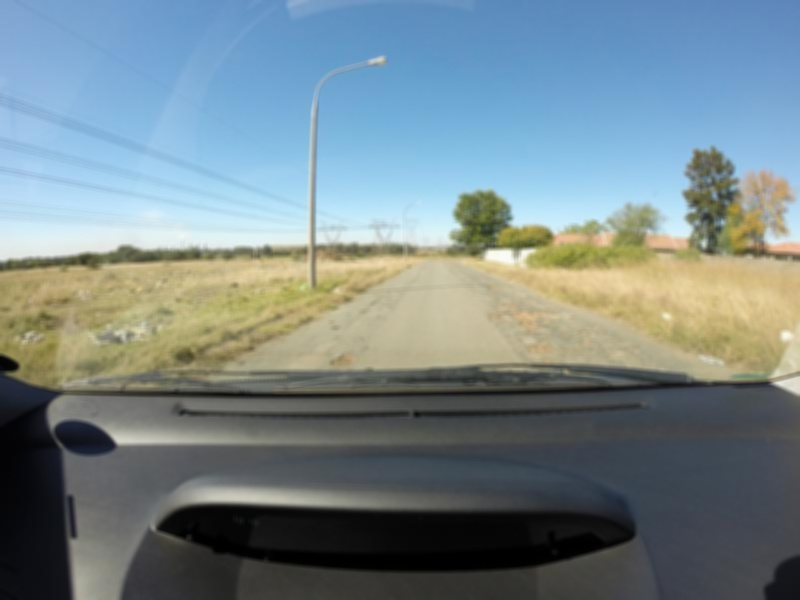pothole: (481, 298, 541, 323), (326, 349, 368, 367), (520, 339, 566, 354), (579, 331, 600, 355), (614, 343, 627, 368)
